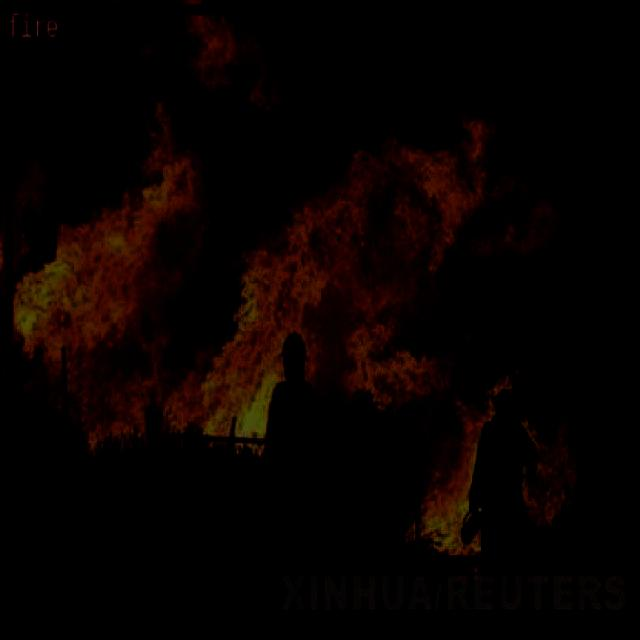fire: (5, 3, 582, 563)
